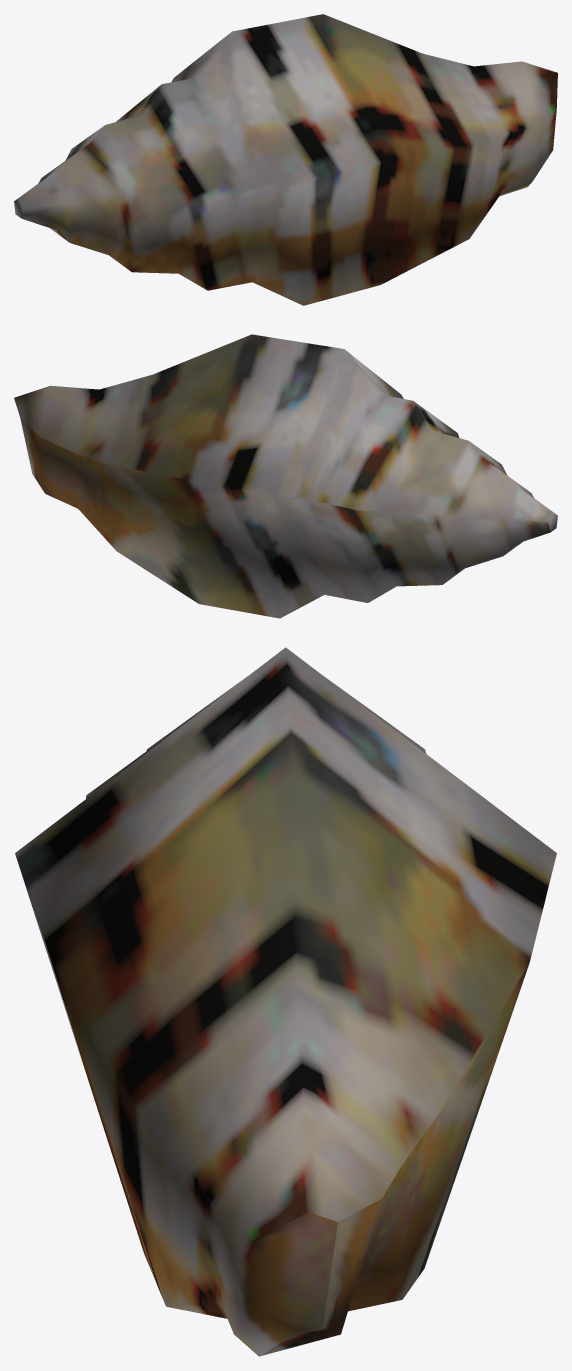
File: 5010_Item_hailuo_10.FBX
3 views of the same model, one above another, from view 1: azimuth 30°, elevation 25°; view 2: azimuth 150°, elevation 25°; view 3: azimuth 270°, elevation 25° (orthographic). The views are drawn at different scales.
Parts seen in each view (by area): view 1: 5010_Item_hailuo_10; view 2: 5010_Item_hailuo_10; view 3: 5010_Item_hailuo_10.
Boxes of the visible parts, <box> form: 5010_Item_hailuo_10: <box>14,14,557,305</box>; 5010_Item_hailuo_10: <box>14,334,557,618</box>; 5010_Item_hailuo_10: <box>15,647,556,1356</box>.
Bounding box in the file's own units: 116 × 53.47 × 51.19.
